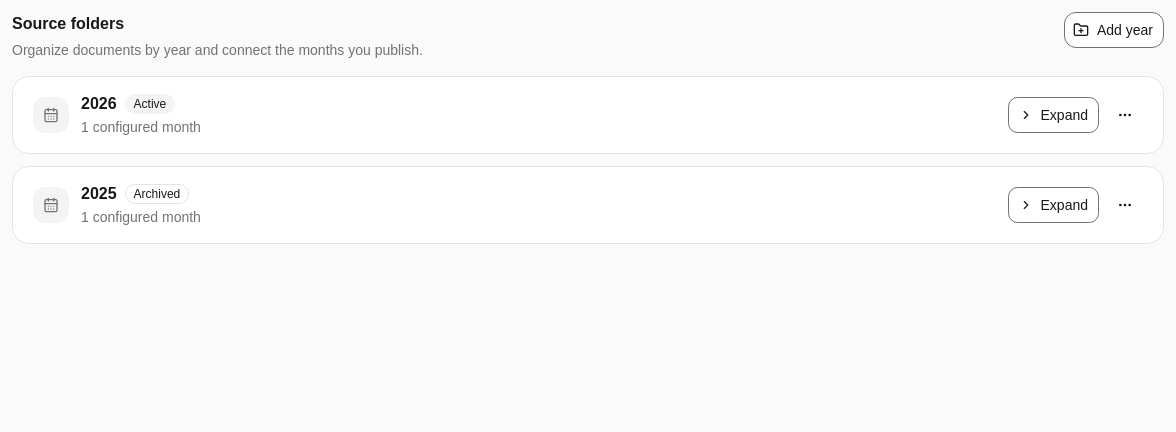
feed year expansion › defaults malformed preferences to collapsed and remains usable with blocked reads and writes
Click the button with aria-label "Expand 2026": point(1053, 115) [1008,97,1099,133]
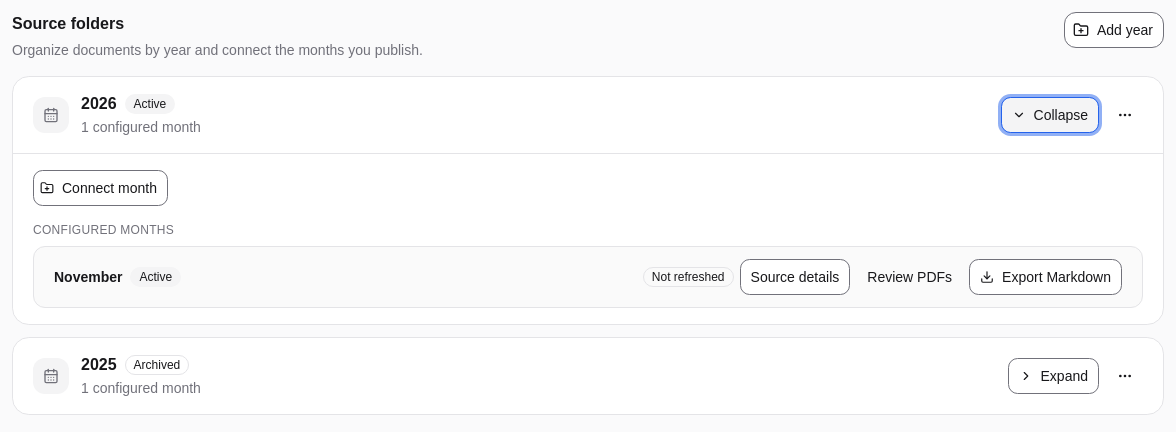
Expected: the button with aria-label "Collapse 2026" is expanded
Click the button with aria-label "Collapse 2026": point(1050, 115) [1000,97,1099,133]
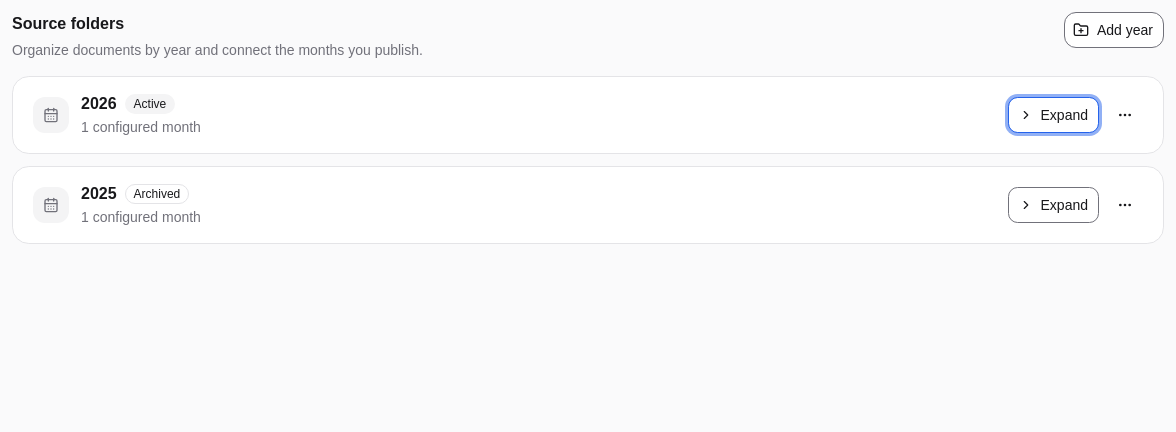
Expected: the button with aria-label "Expand 2026" is collapsed, [1008,97,1099,133]
